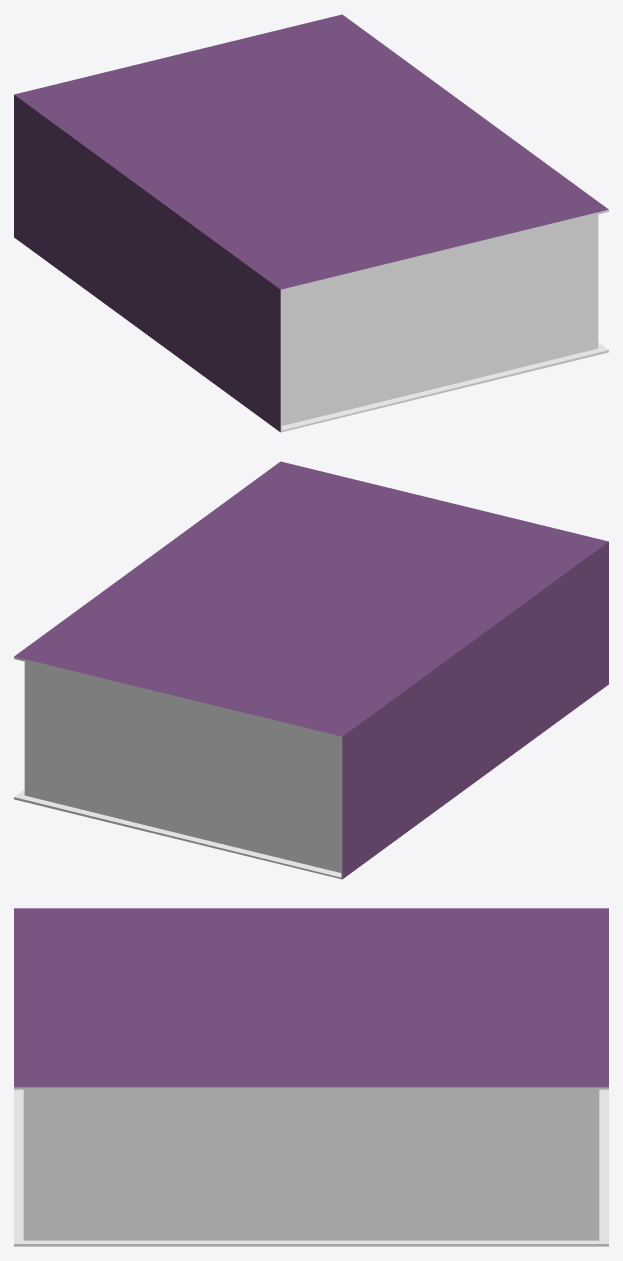
File: Book_01.fbx
3 views of the same model, one above another, from view 1: azimuth 30°, elevation 25°; view 2: azimuth 150°, elevation 25°; view 3: azimuth 270°, elevation 25° (orthographic). The views are drawn at different scales.
Visible parts, largest first — view 1: Book_01; view 2: Book_01; view 3: Book_01.
Part boxes in pixels (box(x1,y1,x2,y2)): Book_01: box(14, 14, 608, 432); Book_01: box(14, 461, 608, 879); Book_01: box(14, 908, 608, 1246).
Size of the model in its own units: 21.61 by 8.98 by 30.4.
